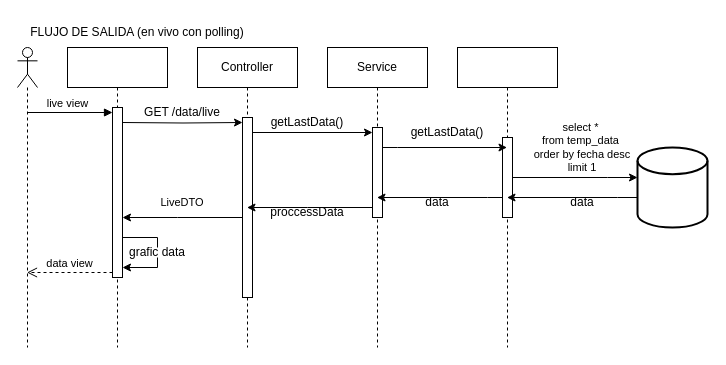
Some shapes in this 726 by 365 pixel diagram are drawn without their labels. The box of each missing label's shape, as (x1, y1, x2, y2) in pixels:
FRONT: (66, 46, 168, 348)
Repository: (456, 46, 558, 348)
